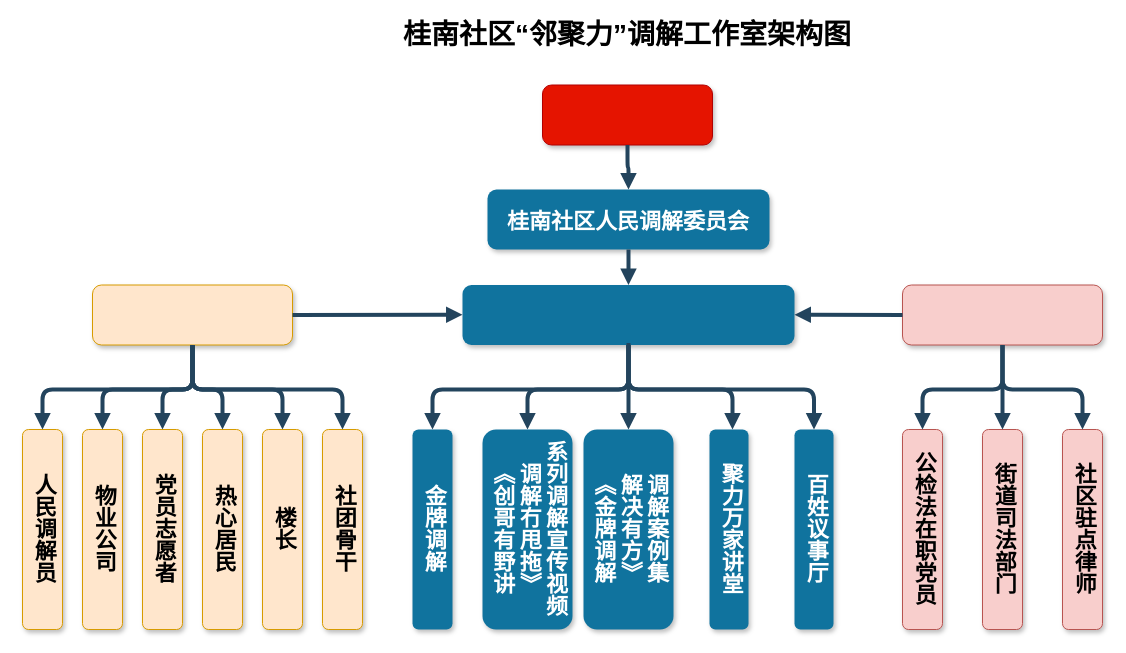
Some shapes in this 1126 by 653 pixel diagram are drawn without their labels. Here are the shapes that lost their labels. From the top down, the centre of each, then its label:
At point 628,116: "桂南社区党委".
At point 193,316: "调解队伍".
At point 629,316: "桂南社区“邻聚力”调解工作室".
At point 1003,316: "专业支持".
